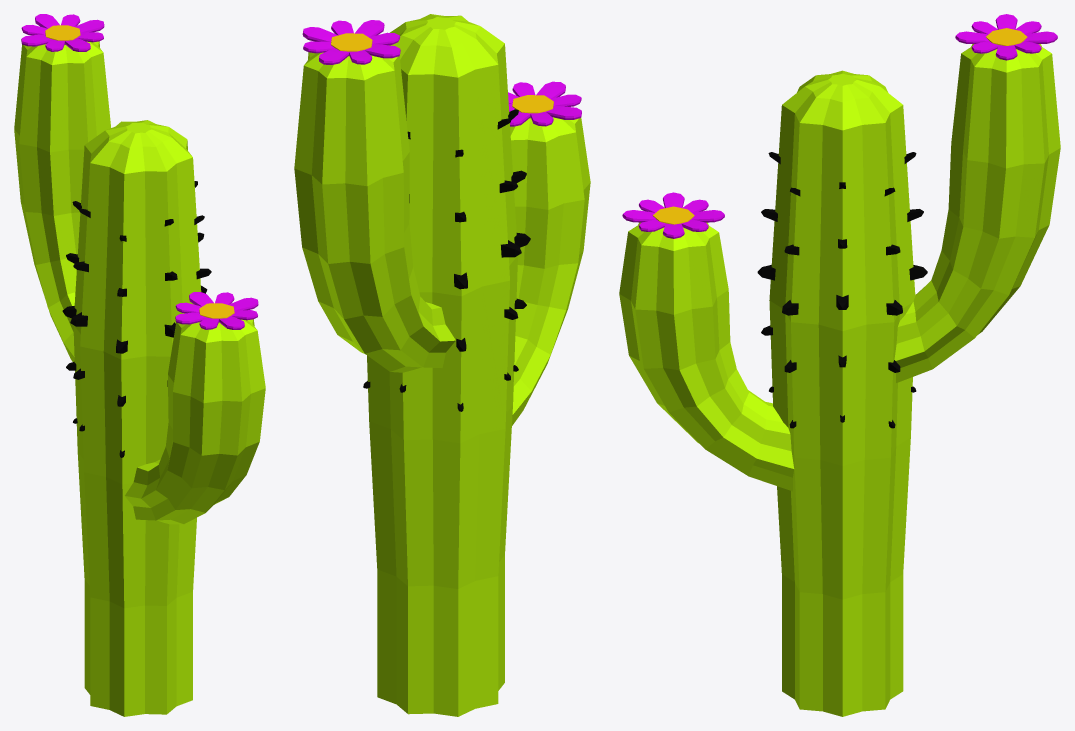
File: Cardon01_02Brazos_Flor_Magenta.fbx
3 views of the same model, side by side, from view 1: azimuth 30°, elevation 25°; view 2: azimuth 150°, elevation 25°; view 3: azimuth 270°, elevation 25° (orthographic). The views are drawn at different scales.
Visible parts, largest first — view 1: Cactus, Flor_Magenta, Espinas; view 2: Cactus, Flor_Magenta, Espinas; view 3: Cactus, Flor_Magenta, Espinas.
Part boxes in pixels (box(x1,y1,x2,y2)): Cactus: box(14, 41, 265, 716); Flor_Magenta: box(21, 14, 258, 329); Espinas: box(62, 181, 211, 457); Cactus: box(294, 14, 590, 716); Flor_Magenta: box(302, 20, 581, 126); Espinas: box(363, 109, 530, 411); Cactus: box(619, 44, 1060, 716); Flor_Magenta: box(622, 14, 1057, 238); Espinas: box(757, 152, 927, 428).
Size of the model in its own units: 53.18 by 226 by 138.
